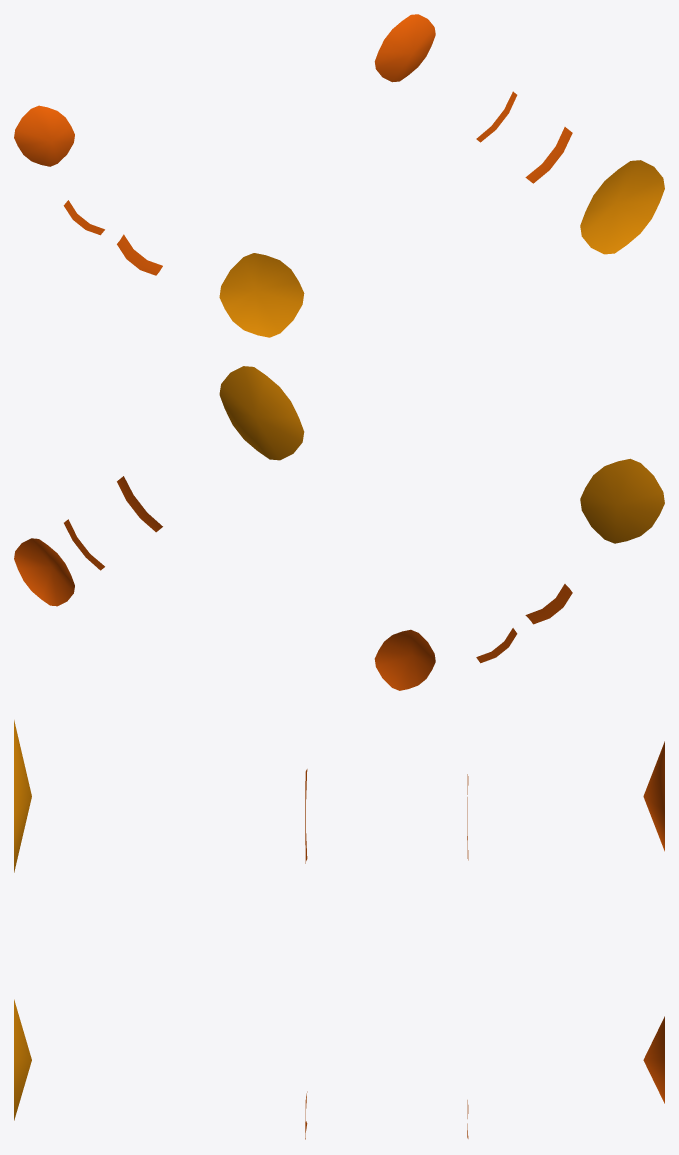
Rendered from Thor2.fbx.
The picture shows the model from 3 angles, top to bottom: view 1: azimuth 30°, elevation 25°; view 2: azimuth 150°, elevation 25°; view 3: azimuth 270°, elevation 25°; orthographic projection. The views are drawn at different scales.
Parts seen in each view (by area): view 1: Engine02, Engine01; view 2: Engine01, Engine02; view 3: Engine01, Engine02.
Part boxes in pixels (left/top/right/bottom): Engine02: left=374, top=14, right=664, bottom=254; Engine01: left=14, top=105, right=304, bottom=337; Engine01: left=374, top=458, right=664, bottom=690; Engine02: left=14, top=366, right=304, bottom=606; Engine01: left=14, top=720, right=664, bottom=872; Engine02: left=14, top=999, right=664, bottom=1139.
Size of the model in its own units: 6.32 by 1.25 by 5.22.
